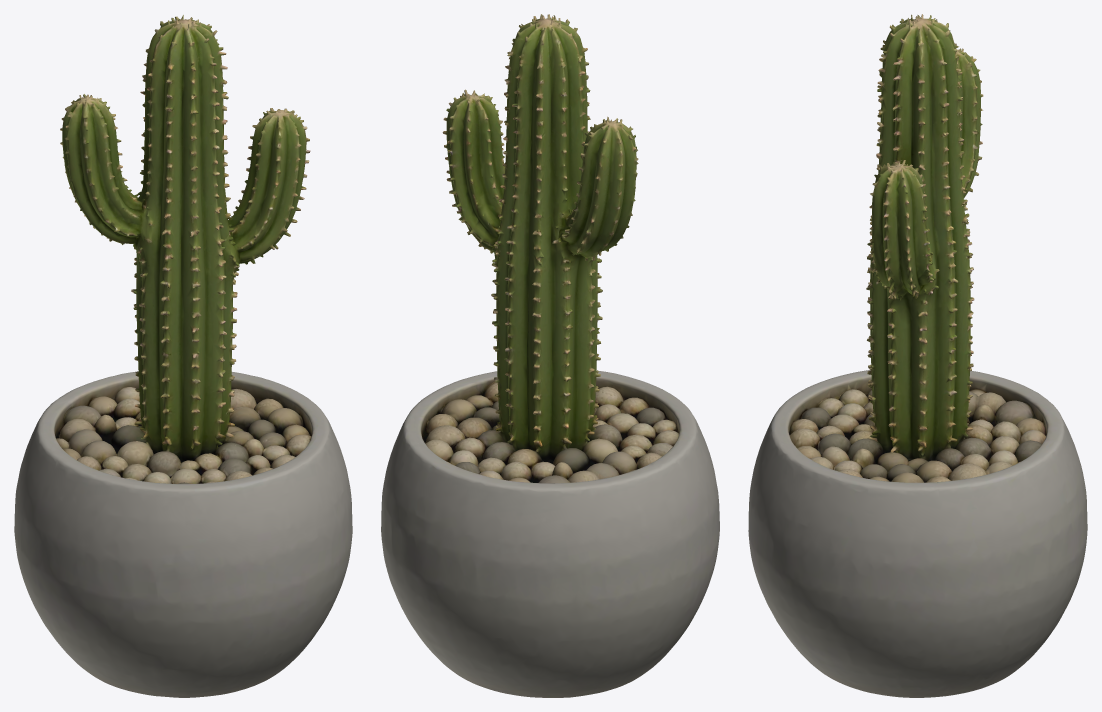
File: cactus.glb
3 views of the same model, side by side, from view 1: azimuth 30°, elevation 25°; view 2: azimuth 150°, elevation 25°; view 3: azimuth 270°, elevation 25° (orthographic).
Visible parts, largest first — view 1: tripo_node_db04446c-8393-4553-afaf-8690135746d2; view 2: tripo_node_db04446c-8393-4553-afaf-8690135746d2; view 3: tripo_node_db04446c-8393-4553-afaf-8690135746d2.
Boxes of the visible parts, box(x1,y1,x2,y2) form: tripo_node_db04446c-8393-4553-afaf-8690135746d2: box(14, 15, 352, 697); tripo_node_db04446c-8393-4553-afaf-8690135746d2: box(381, 14, 719, 697); tripo_node_db04446c-8393-4553-afaf-8690135746d2: box(748, 14, 1087, 697).
Size of the model in its own units: 0.4554 by 0.95 by 0.4552.
1 material, 1 textured.
